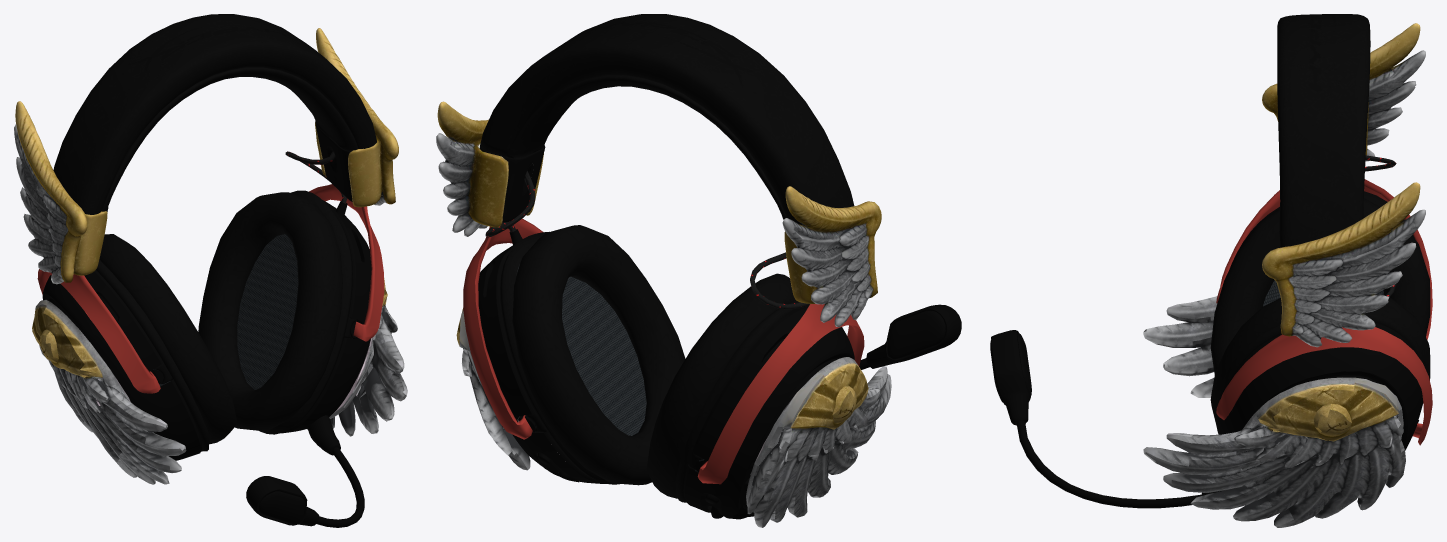
Rendered from valkyrie.glb.
3 views of the same model, side by side, from view 1: azimuth 30°, elevation 25°; view 2: azimuth 150°, elevation 25°; view 3: azimuth 270°, elevation 25° (orthographic). The views are drawn at different scales.
Parts seen in each view (by area): view 1: 480 tris ring 2.001, Retopo_pre top.006, 300 tris wire holder.001, valkyrie.002, valkyrie.001, 150 tris earmuff screen.003, Retopo_FIXED 400 tris fork.001, valkyrie 20k total, valkyrie.004, 480 tris mic mesh.001, 200 tris mic.001; view 2: 480 tris ring 2.001, Retopo_pre top.006, 300 tris wire holder.001, valkyrie.002, valkyrie.001, Retopo_FIXED 400 tris fork.001, 150 tris earmuff screen.003, valkyrie.004, valkyrie 20k total, 480 tris mic mesh.001, 244 tris cable.002; view 3: valkyrie 20k total, Retopo_pre top.006, valkyrie.004, 480 tris ring 2.001, 300 tris wire holder.001, Retopo_FIXED 400 tris fork.001, valkyrie.001, valkyrie.002, 200 tris mic.001, 480 tris mic mesh.001.
Part boxes in pixels (<box>): 480 tris ring 2.001: <box>96,190,352,451</box>; Retopo_pre top.006: <box>53,14,376,214</box>; 300 tris wire holder.001: <box>42,121,371,526</box>; valkyrie.002: <box>32,300,186,484</box>; valkyrie.001: <box>14,101,107,284</box>; 150 tris earmuff screen.003: <box>153,234,298,389</box>; Retopo_FIXED 400 tris fork.001: <box>37,184,384,393</box>; valkyrie 20k total: <box>329,278,407,436</box>; valkyrie.004: <box>315,28,398,207</box>; 480 tris mic mesh.001: <box>258,491,305,524</box>; 200 tris mic.001: <box>316,447,364,527</box>; 480 tris ring 2.001: <box>500,225,799,502</box>; Retopo_pre top.006: <box>480,14,854,224</box>; 300 tris wire holder.001: <box>478,146,961,519</box>; valkyrie.002: <box>746,357,891,527</box>; valkyrie.001: <box>782,186,881,327</box>; Retopo_FIXED 400 tris fork.001: <box>463,218,864,484</box>; 150 tris earmuff screen.003: <box>517,264,704,472</box>; valkyrie.004: <box>436,101,543,236</box>; valkyrie 20k total: <box>456,308,530,470</box>; 480 tris mic mesh.001: <box>887,310,945,359</box>; 244 tris cable.002: <box>485,171,809,309</box>; valkyrie 20k total: <box>1143,377,1405,527</box>; Retopo_pre top.006: <box>1277,14,1370,247</box>; valkyrie.004: <box>1262,182,1425,347</box>; 480 tris ring 2.001: <box>1210,191,1430,434</box>; 300 tris wire holder.001: <box>991,321,1423,495</box>; Retopo_FIXED 400 tris fork.001: <box>1216,179,1432,445</box>; valkyrie.001: <box>1262,23,1425,161</box>; valkyrie.002: <box>1143,296,1217,397</box>; 200 tris mic.001: <box>1016,420,1201,508</box>; 480 tris mic mesh.001: <box>990,333,1031,402</box>.
Size of the model in its own units: 0.1666 by 0.1976 by 0.1768.
Materials: 15 (15 with a texture image).
